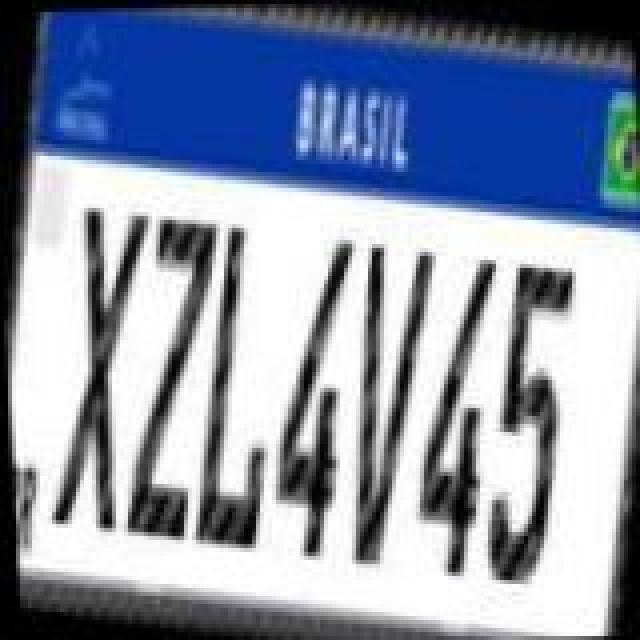4: (392, 246, 520, 582), (246, 228, 374, 560)
5: (460, 252, 588, 592)
L: (172, 216, 304, 548)
V: (316, 234, 448, 574)
X: (26, 198, 162, 538)
Z: (106, 206, 234, 542)
